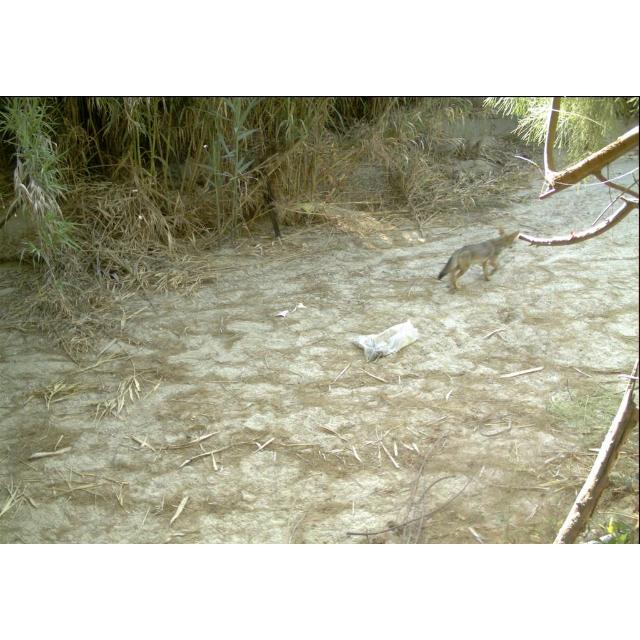animals: (434, 226, 524, 294)
